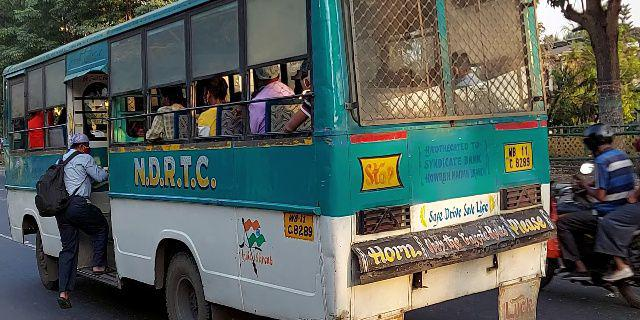Bus: (1, 1, 563, 317)
Motorbike: (553, 119, 640, 303)
